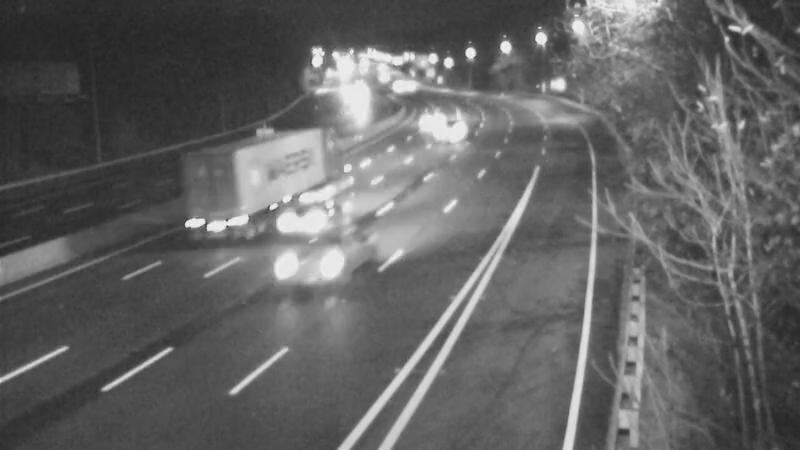vehicle: (201, 136, 281, 216), (272, 173, 352, 253), (275, 224, 355, 304), (407, 93, 457, 143), (428, 107, 478, 157), (333, 68, 383, 118)
